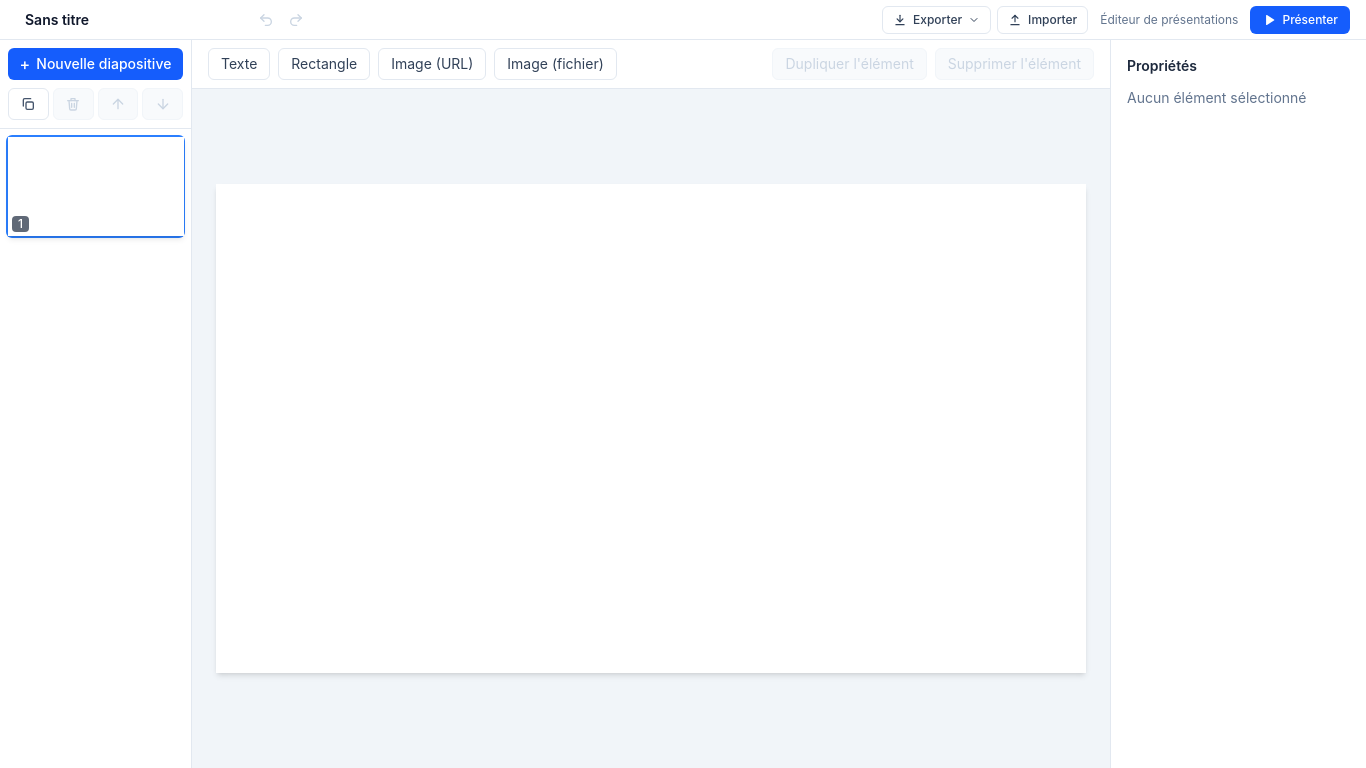
it: EditorLayout : annuler et rétablir (boutons) › ajouter un rectangle active Annuler, qui le retire et active Rétablir
Click the button "Rectangle": [324, 64] box [278, 48, 370, 80]
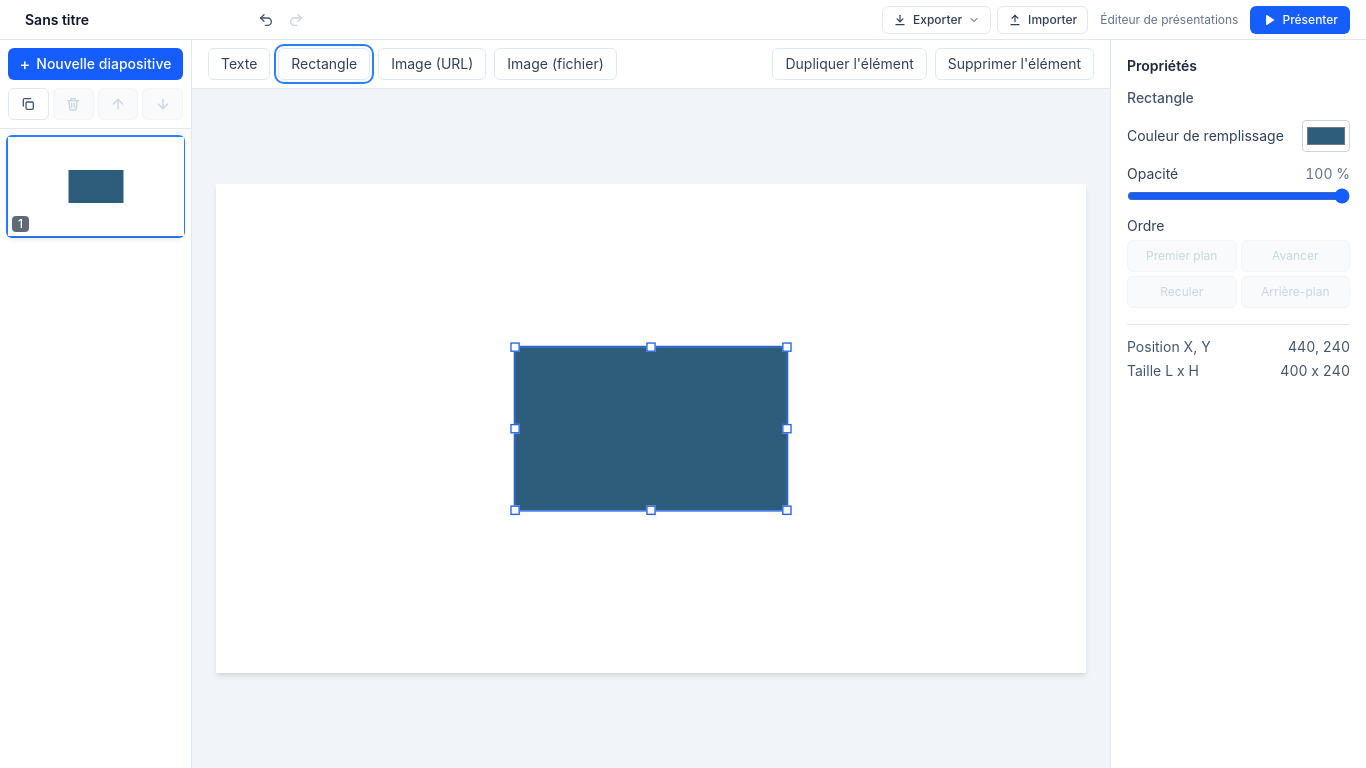
expect the button named "Rétablir" is disabled: met, box [282, 6, 310, 34]
expect the button named "Annuler" is enabled: met
Click the button named "Annuler": [266, 20] box [252, 6, 280, 34]
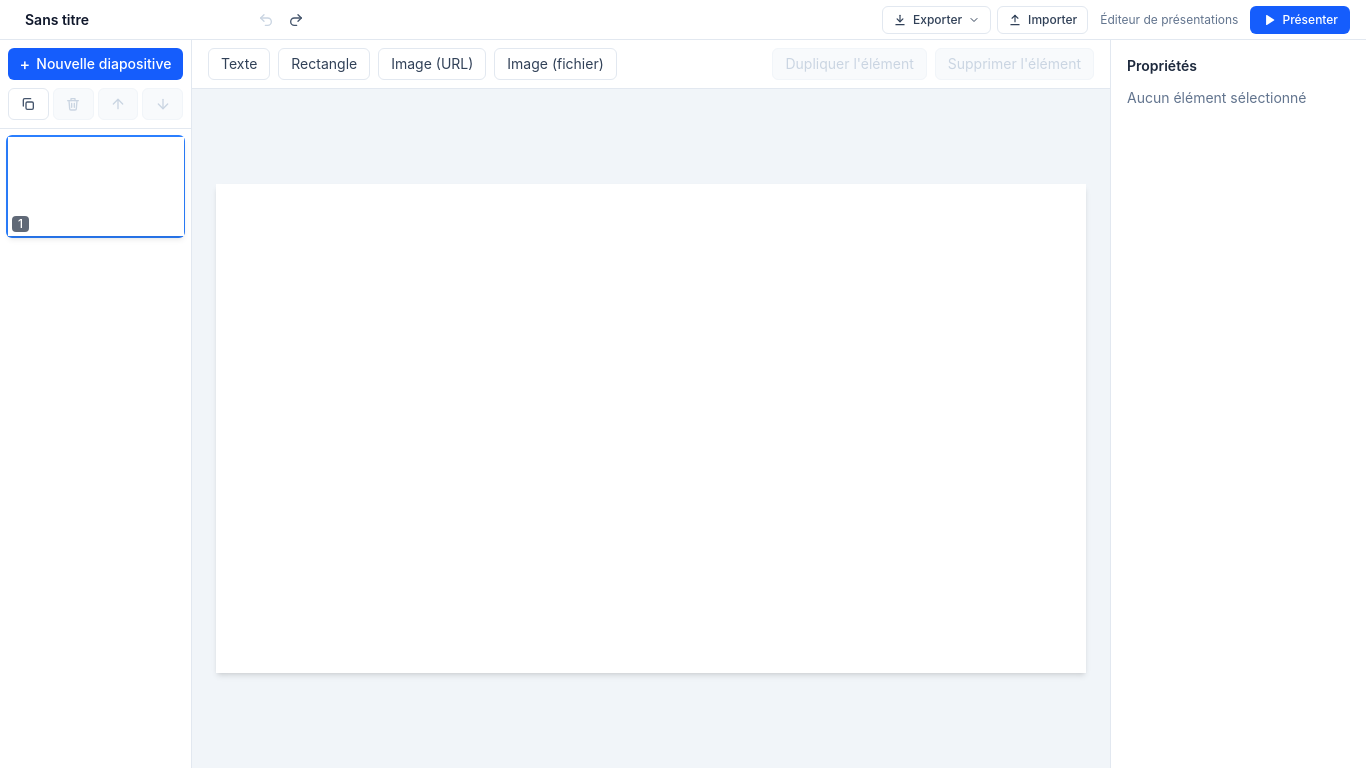
expect the button named "Annuler" is disabled: met, box [252, 6, 280, 34]
expect the button named "Rétablir" is enabled: met, box [282, 6, 310, 34]
